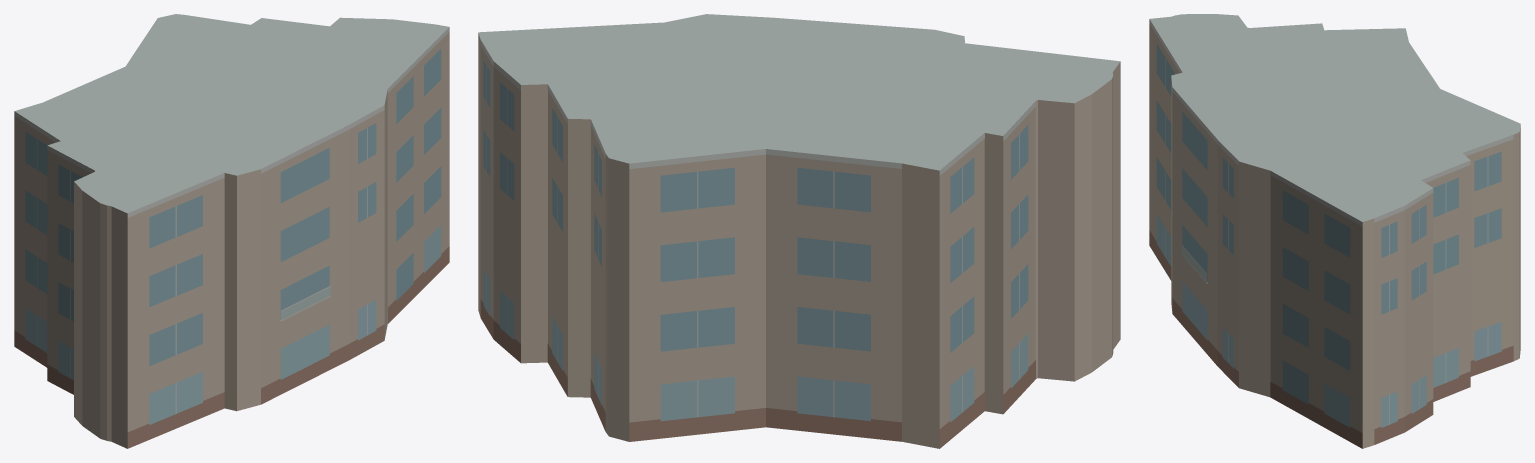
File: survey-upis-32920536.glb
3 views of the same model, side by side, from view 1: azimuth 30°, elevation 25°; view 2: azimuth 150°, elevation 25°; view 3: azimuth 270°, elevation 25° (orthographic). The views are drawn at different scales.
Visible parts, largest first — view 1: survey-upis-32920536.tmp; view 2: survey-upis-32920536.tmp; view 3: survey-upis-32920536.tmp.
Part boxes in pixels (<box>): survey-upis-32920536.tmp: <box>14,14,449,448</box>; survey-upis-32920536.tmp: <box>478,14,1120,448</box>; survey-upis-32920536.tmp: <box>1149,14,1520,448</box>.
Bounding box in the file's own units: 24.03 × 12.2 × 18.11.
